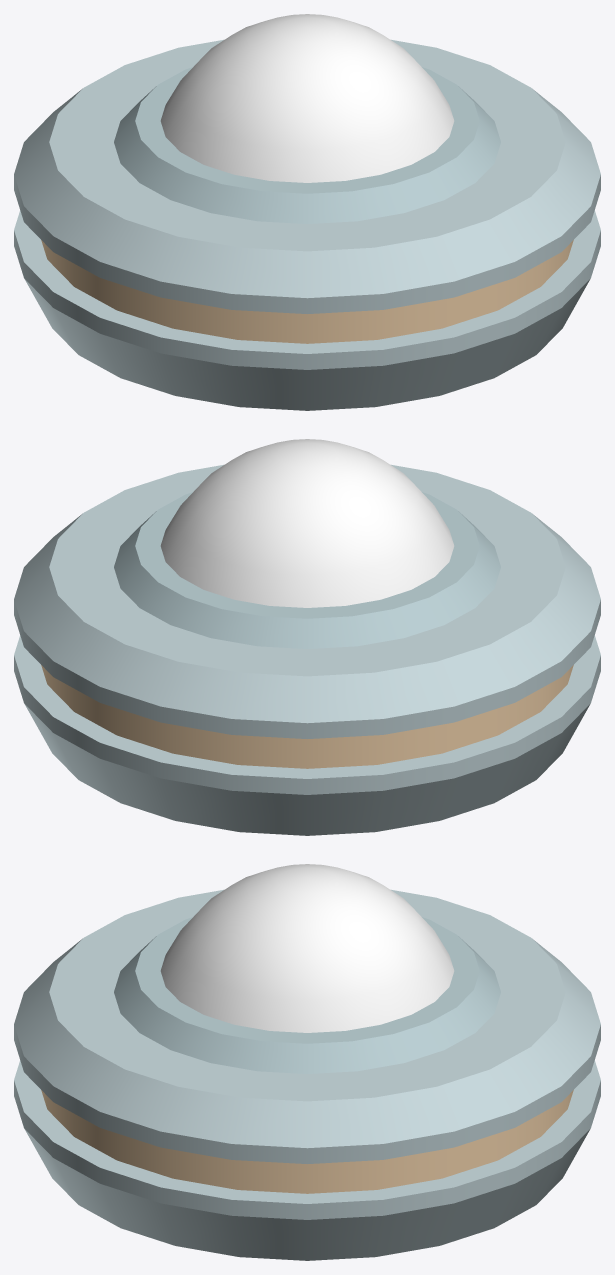
File: enemy_ufoYellow.glb
3 views of the same model, one above another, from view 1: azimuth 30°, elevation 25°; view 2: azimuth 150°, elevation 25°; view 3: azimuth 270°, elevation 25° (orthographic).
Parts seen in each view (by area): view 1: enemy_ufoYellow; view 2: enemy_ufoYellow; view 3: enemy_ufoYellow.
Part boxes in pixels (x1,y1,x2,y2): enemy_ufoYellow: (14, 14, 600, 410); enemy_ufoYellow: (14, 439, 600, 835); enemy_ufoYellow: (14, 864, 600, 1260).
Size of the model in its own units: 1 by 0.51 by 1.
